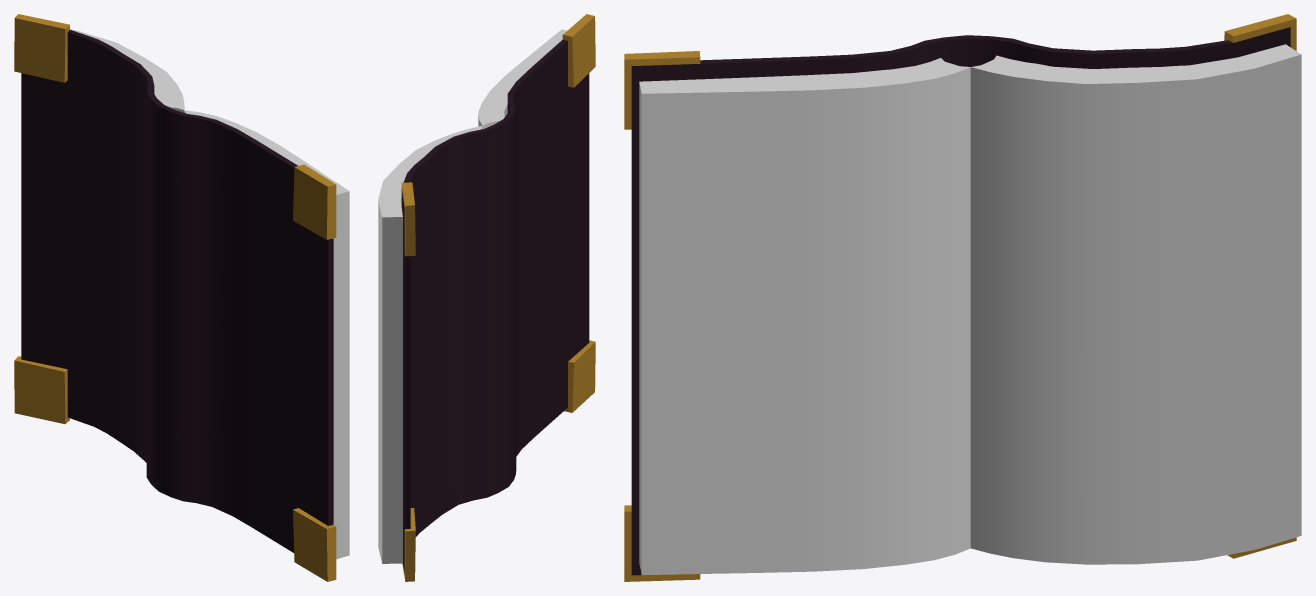
The model's file is WolfBook.fbx.
The picture shows the model from 3 angles, left to right: view 1: azimuth 30°, elevation 25°; view 2: azimuth 150°, elevation 25°; view 3: azimuth 270°, elevation 25°; orthographic projection. The views are drawn at different scales.
Visible parts, largest first — view 1: Book; view 2: Book; view 3: Book.
Part boxes in pixels (x1,y1,x2,y2): Book: (14, 14, 349, 581); Book: (378, 14, 595, 581); Book: (624, 14, 1301, 581).
Size of the model in its own units: 55.07 by 228 by 268.
